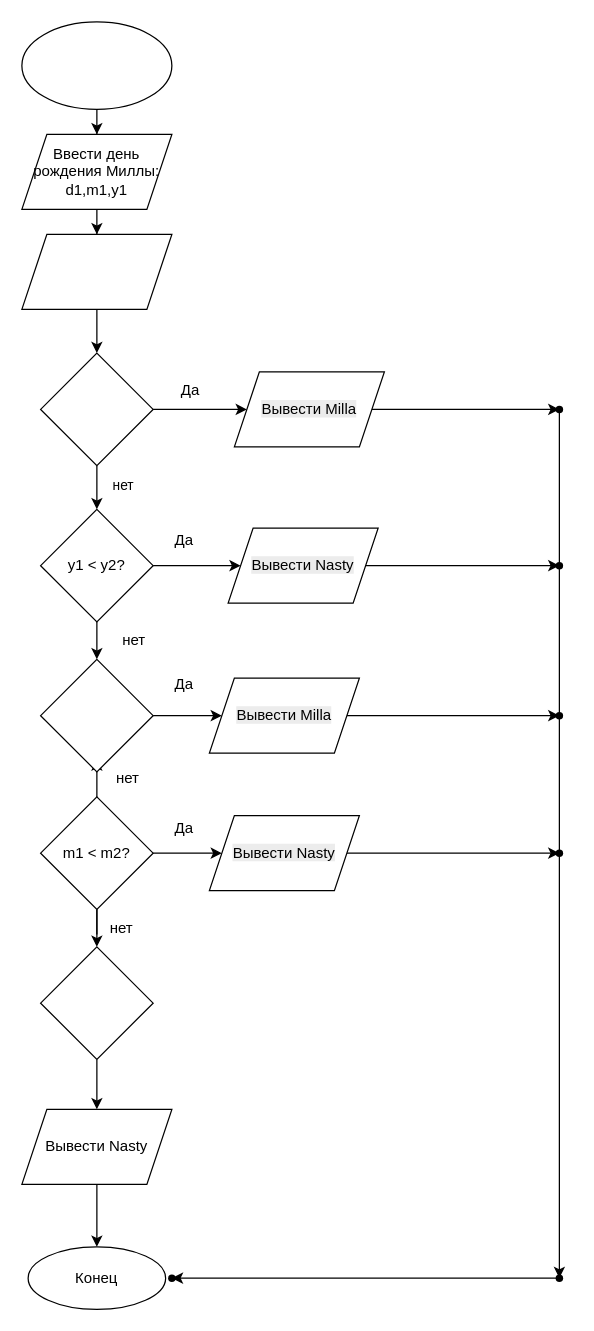
Some shapes in this 594 by 1331 pixel diagram are drawn without their labels. Here are the shapes that lost their labels. From the top down, the box of each, then its label:
(21, 21, 172, 109): Начало
(21, 233, 172, 309): Ввести день рождения Насти: d2,m2,y2
(39, 352, 153, 466): y1 > y2?
(39, 658, 153, 772): m1 > m2?
(39, 946, 153, 1059): d1 > d2?
